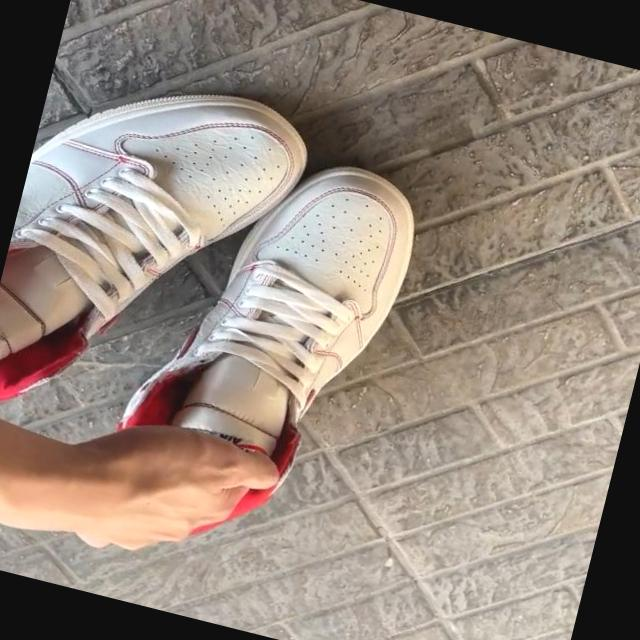nike_fake_jordan: (0, 46, 319, 467), (109, 129, 428, 520)
